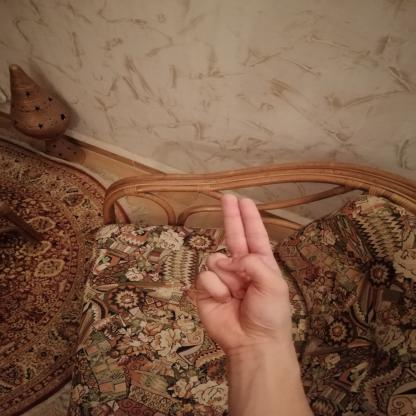TA: (178, 181, 304, 358)
